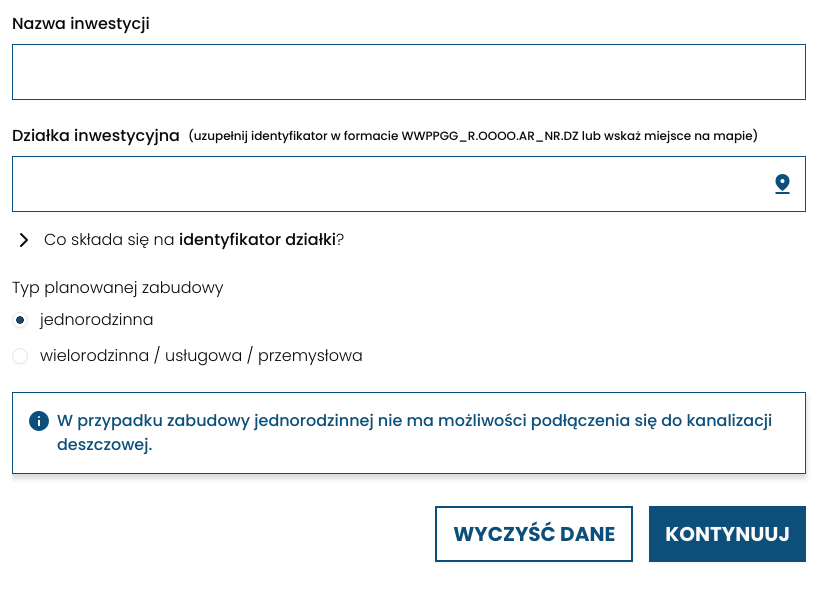
Test: InwestycjaForm component › should show validation error for invalid identyfikator
The width and height of the screenshot is (826, 611).
In the field named "nazwaInwestycji" below "Nazwa inwestycji": {"x": 409, "y": 72} [12,44,806,100], type "Test Investment"
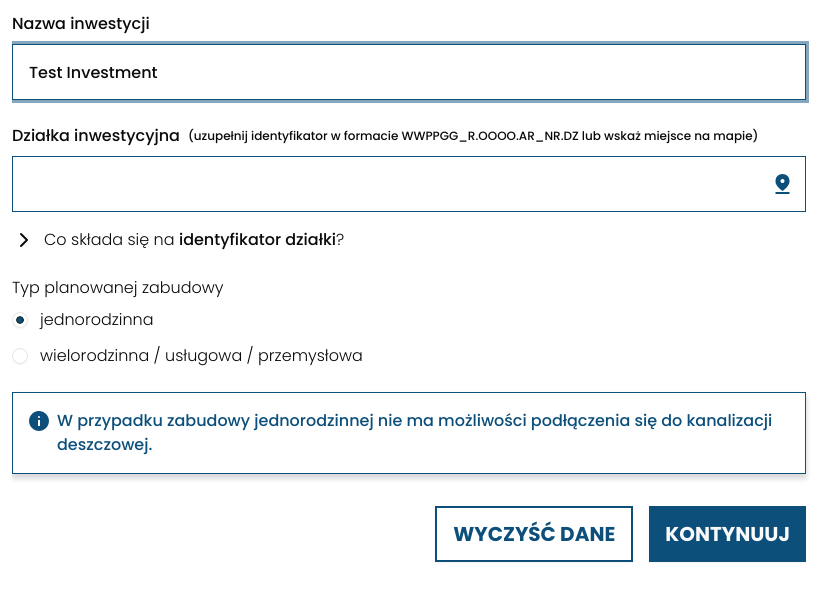
In the field named "identyfikatorInwestycji" below "Działka inwestycyjna": {"x": 409, "y": 184} [12,156,806,212], type "short"
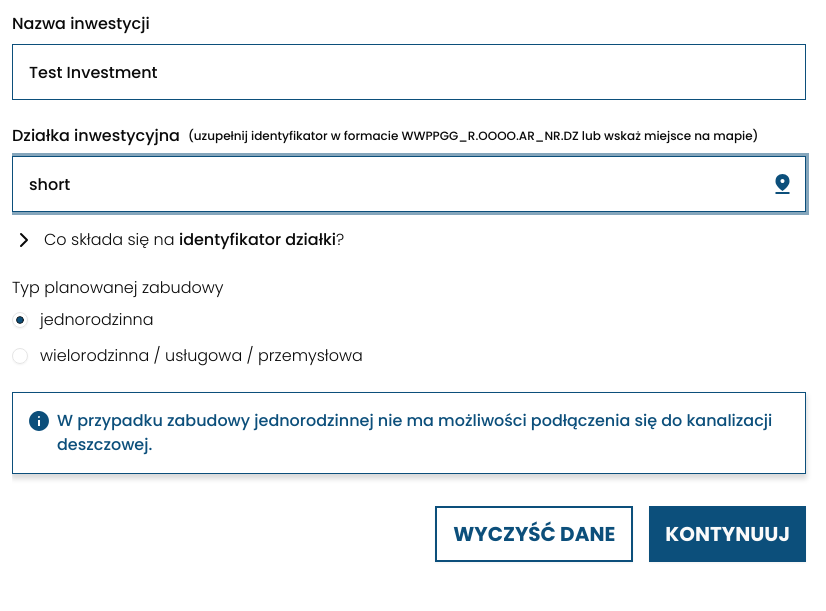
Click the button "Kontynuuj": {"x": 728, "y": 534} [649,506,806,562]
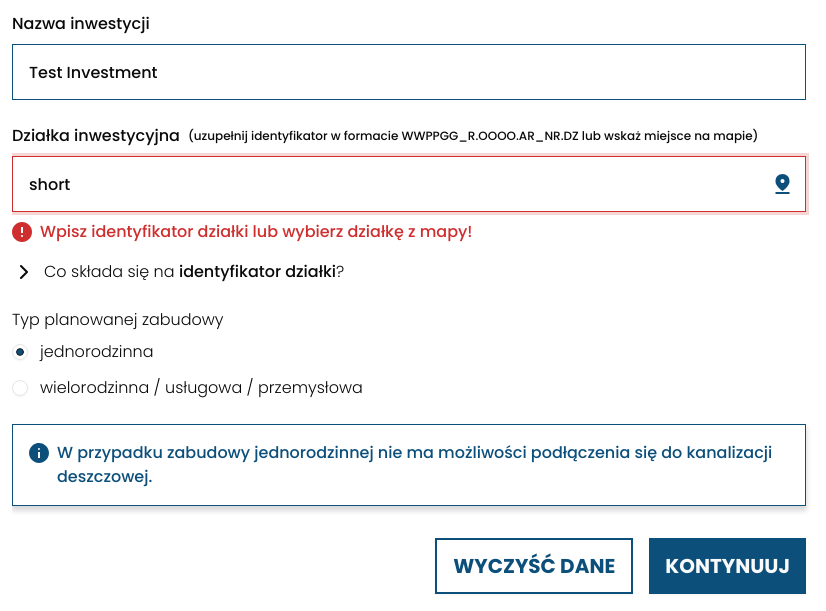
Expected: the text "Wpisz identyfikator działki lub wybierz działkę z mapy!" is shown, [12,220,472,243]
